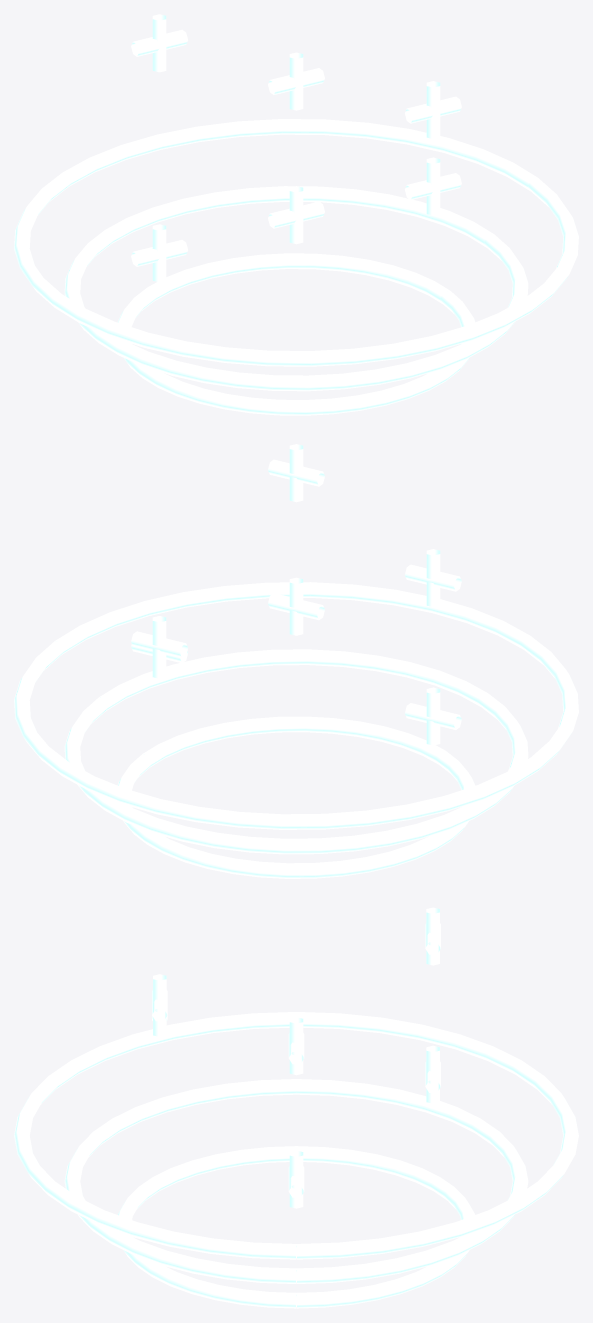
Rendered from item.focus.glb.
The picture shows the model from 3 angles, top to bottom: view 1: azimuth 30°, elevation 25°; view 2: azimuth 150°, elevation 25°; view 3: azimuth 270°, elevation 25°; orthographic projection.
Visible parts, largest first — view 1: item.focus.sweep.015; view 2: item.focus.sweep.015; view 3: item.focus.sweep.015.
Boxes of the visible parts, left/top/right/bottom form: item.focus.sweep.015: left=14, top=14, right=578, bottom=415; item.focus.sweep.015: left=14, top=444, right=578, bottom=878; item.focus.sweep.015: left=14, top=907, right=578, bottom=1308.
Size of the model in its own units: 1.79 by 1.01 by 1.79.
